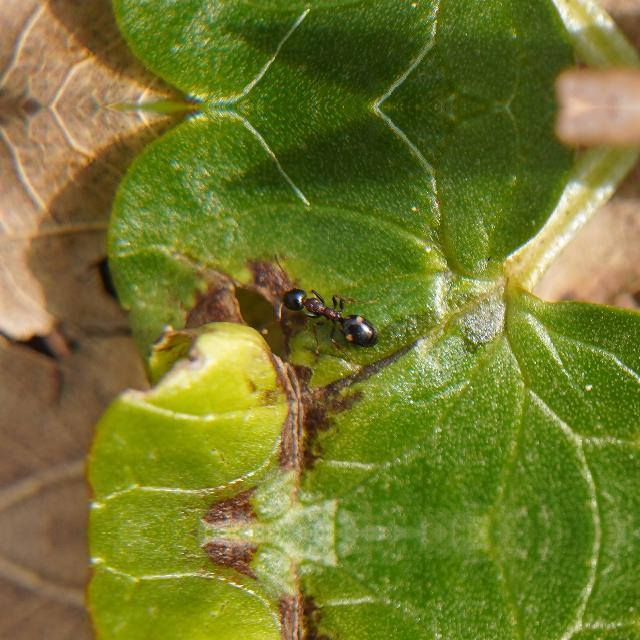Dolichoderus: (267, 273, 397, 349)
